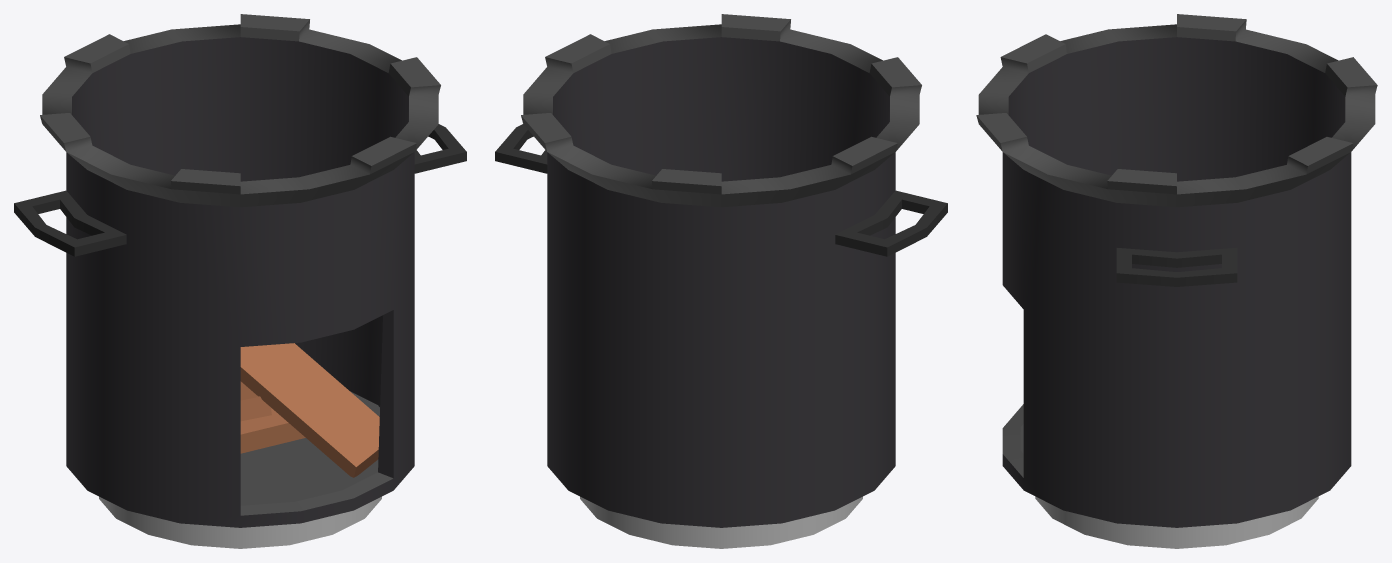
Rendered from CookingStove.fbx.
The picture shows the model from 3 angles, left to right: view 1: azimuth 30°, elevation 25°; view 2: azimuth 150°, elevation 25°; view 3: azimuth 270°, elevation 25°; orthographic projection.
Visible parts, largest first — view 1: cookingStove_drum; view 2: cookingStove_drum; view 3: cookingStove_drum.
Part boxes in pixels (x1,y1,x2,y2): cookingStove_drum: [14, 14, 466, 548]; cookingStove_drum: [495, 14, 947, 548]; cookingStove_drum: [976, 14, 1377, 548].
Bounding box in the file's own units: 0.4793 × 0.4328 × 0.4056.
